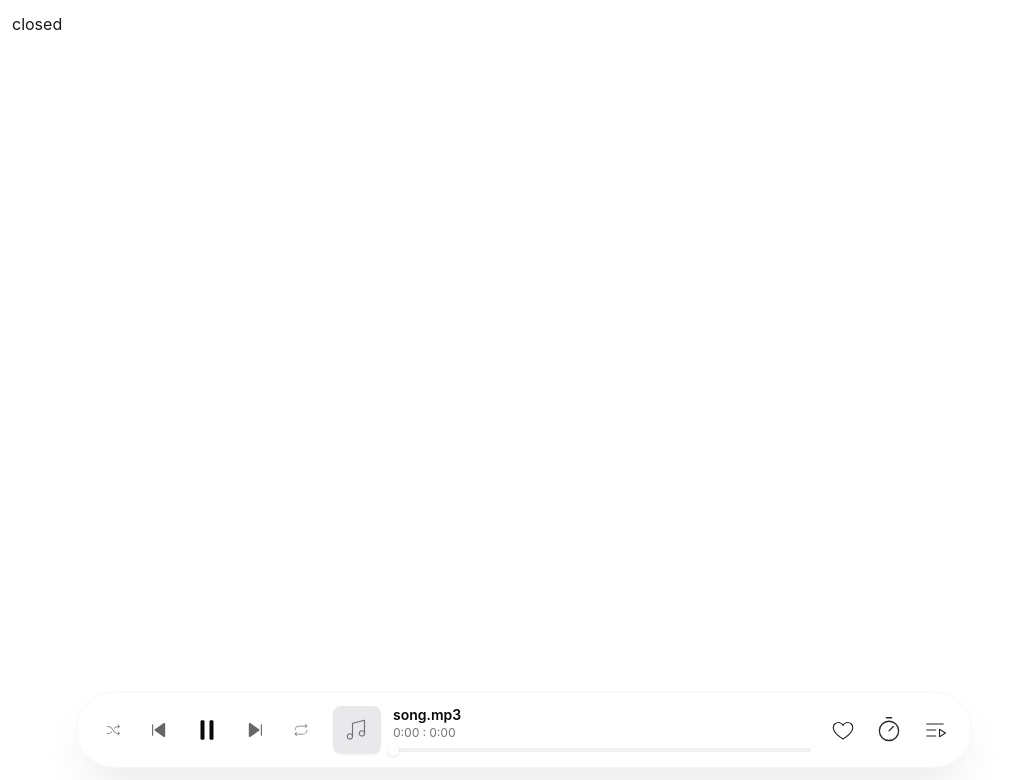
Test case: MiniPlayer › opens sleep timer controls from the mini timer button
Click the button named "Sleep timer". click: (889, 730)
box: x1=869 y1=710 x2=909 y2=750
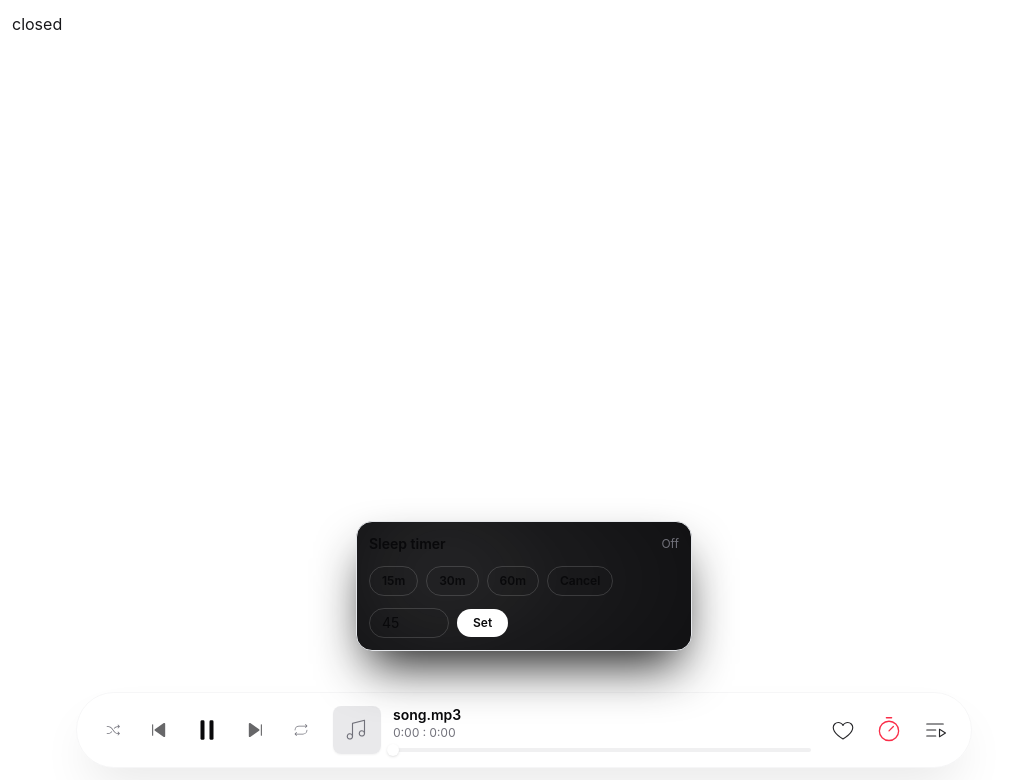
Expected: the icon below "Off" is shown, x1=875 y1=716 x2=903 y2=744
Result: the element with test id "mini-timer-popover" is shown at x1=356 y1=521 x2=692 y2=651
Result: the element with test id "sleep-timer-control" is shown at x1=369 y1=534 x2=679 y2=638
